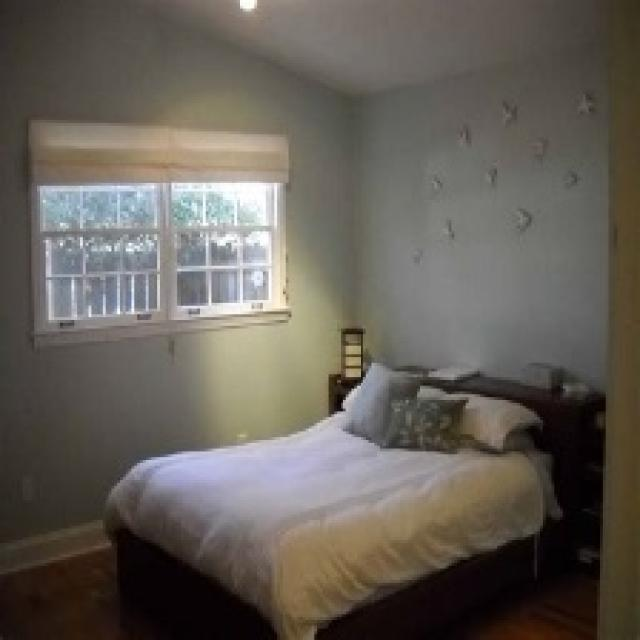Bed: (100, 357, 600, 637)
